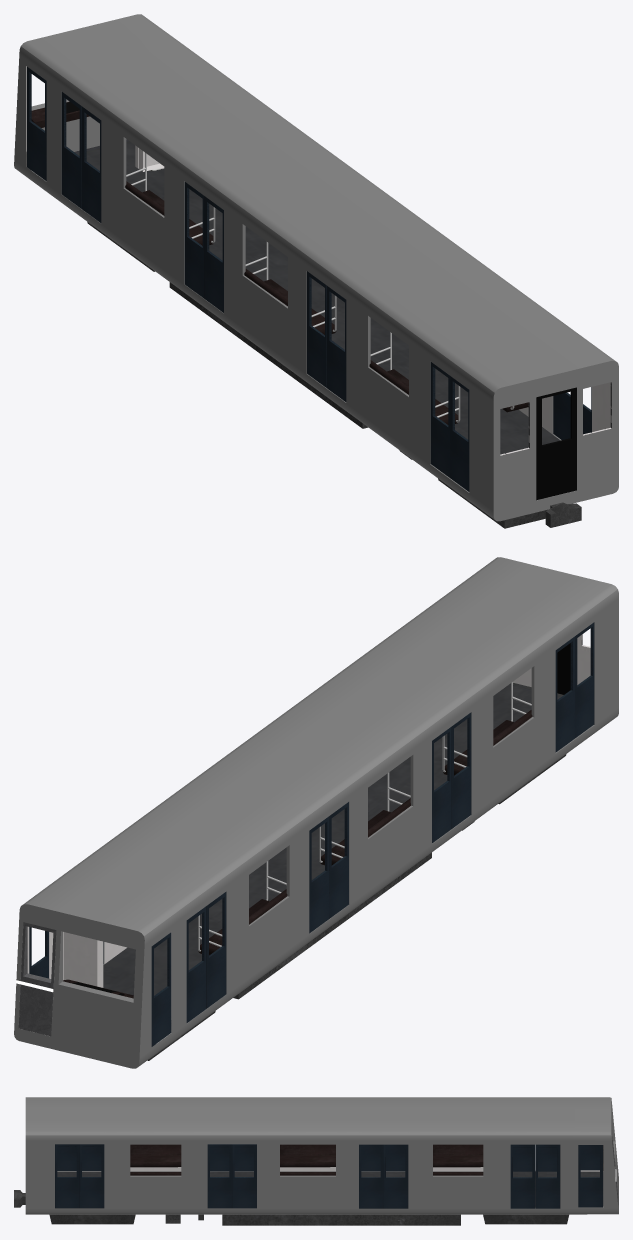
File: vagon_metro_bogota.glb
3 views of the same model, one above another, from view 1: azimuth 30°, elevation 25°; view 2: azimuth 150°, elevation 25°; view 3: azimuth 270°, elevation 25° (orthographic). The views are drawn at different scales.
Visible parts, largest first — view 1: Wagon_passenger_1, WagonDoor_0, WagonDoorWide_010_28, WagonDoorWide_012_30, WagonDoorWide_014_32, WagonDoorWide_011_29, WagonDoorWide_009_27, WagonDoorWide_015_33, WagonDoorWide_008_26, WagonDoorWide_013_31, WagonDoorWide_016_80, Bogey_003_3 (+5 smaller); view 2: Wagon_passenger_1, HoldDoor_82, Cube_006_89, WagonDoorWide_009_27, WagonDoorWide_010_28, WagonDoorWide_015_33, WagonDoorWide_016_80, WagonDoorWide_011_29, WagonDoorWide_013_31, WagonDoorWide_014_32, WagonDoorWide_012_30, WagonDoorWide_008_26 (+4 smaller); view 3: Wagon_passenger_1, Bogey_003_3, PassengerSeat_005_95, PassengerSeat_003_94, PassengerSeat_006_96, WagonDoorWide_001_19, WagonDoorWide_004_22, WagonDoorWide_006_24, WagonDoorWide_007_25, WagonDoorWide_002_20, WagonDoorWide_005_23, WagonDoorWide_003_21 (+16 smaller).
Part boxes in pixels (left/top/right/bottom): Wagon_passenger_1: left=14, top=14, right=618, bottom=521; WagonDoor_0: left=536, top=387, right=576, bottom=500; WagonDoorWide_010_28: left=61, top=92, right=81, bottom=208; WagonDoorWide_012_30: left=184, top=182, right=204, bottom=298; WagonDoorWide_014_32: left=430, top=362, right=450, bottom=477; WagonDoorWide_011_29: left=204, top=196, right=223, bottom=312; WagonDoorWide_009_27: left=82, top=106, right=101, bottom=222; WagonDoorWide_015_33: left=327, top=286, right=346, bottom=401; WagonDoorWide_008_26: left=307, top=271, right=326, bottom=387; WagonDoorWide_013_31: left=450, top=376, right=469, bottom=491; WagonDoorWide_016_80: left=27, top=67, right=46, bottom=181; Bogey_003_3: left=169, top=282, right=368, bottom=428; Wagon_passenger_1: left=14, top=557, right=618, bottom=1068; HoldDoor_82: left=18, top=922, right=56, bottom=1036; Cube_006_89: left=63, top=932, right=100, bottom=986; WagonDoorWide_009_27: left=206, top=892, right=226, bottom=1008; WagonDoorWide_010_28: left=186, top=906, right=206, bottom=1022; WagonDoorWide_015_33: left=451, top=712, right=471, bottom=828; WagonDoorWide_016_80: left=151, top=932, right=171, bottom=1046; WagonDoorWide_011_29: left=329, top=802, right=348, bottom=918; WagonDoorWide_013_31: left=575, top=622, right=594, bottom=738; WagonDoorWide_014_32: left=555, top=636, right=574, bottom=752; WagonDoorWide_012_30: left=309, top=816, right=328, bottom=933; WagonDoorWide_008_26: left=432, top=727, right=451, bottom=843; Wagon_passenger_1: left=25, top=1097, right=618, bottom=1214; Bogey_003_3: left=222, top=1214, right=460, bottom=1225; PassengerSeat_005_95: left=280, top=1144, right=335, bottom=1167; PassengerSeat_003_94: left=130, top=1144, right=181, bottom=1167; PassengerSeat_006_96: left=433, top=1144, right=483, bottom=1167; WagonDoorWide_001_19: left=207, top=1144, right=232, bottom=1208; WagonDoorWide_004_22: left=383, top=1144, right=408, bottom=1208; WagonDoorWide_006_24: left=535, top=1144, right=560, bottom=1208; WagonDoorWide_007_25: left=510, top=1144, right=535, bottom=1208; WagonDoorWide_002_20: left=79, top=1144, right=104, bottom=1208; WagonDoorWide_005_23: left=359, top=1144, right=383, bottom=1208; WagonDoorWide_003_21: left=55, top=1144, right=79, bottom=1208.
Bounding box in the file's own units: 16.02 × 19.83 × 108.
14 materials, 8 textured.
